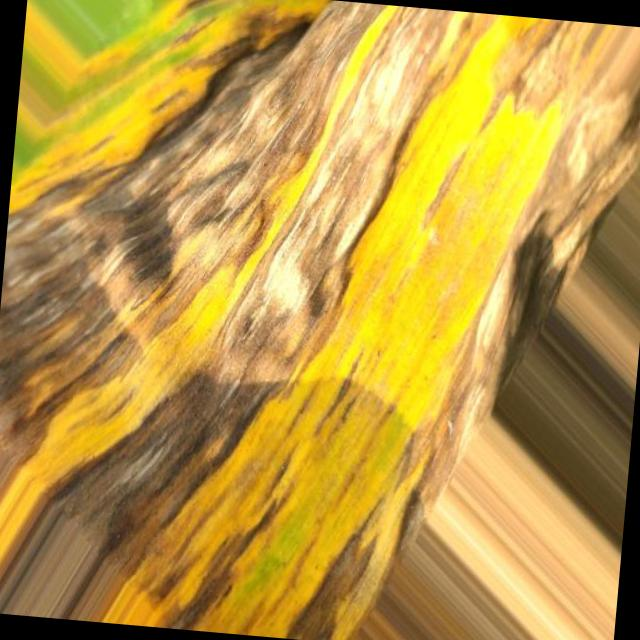Banana_Black_Sigatoka: (0, 56, 290, 634), (297, 0, 640, 377), (262, 382, 474, 640)
